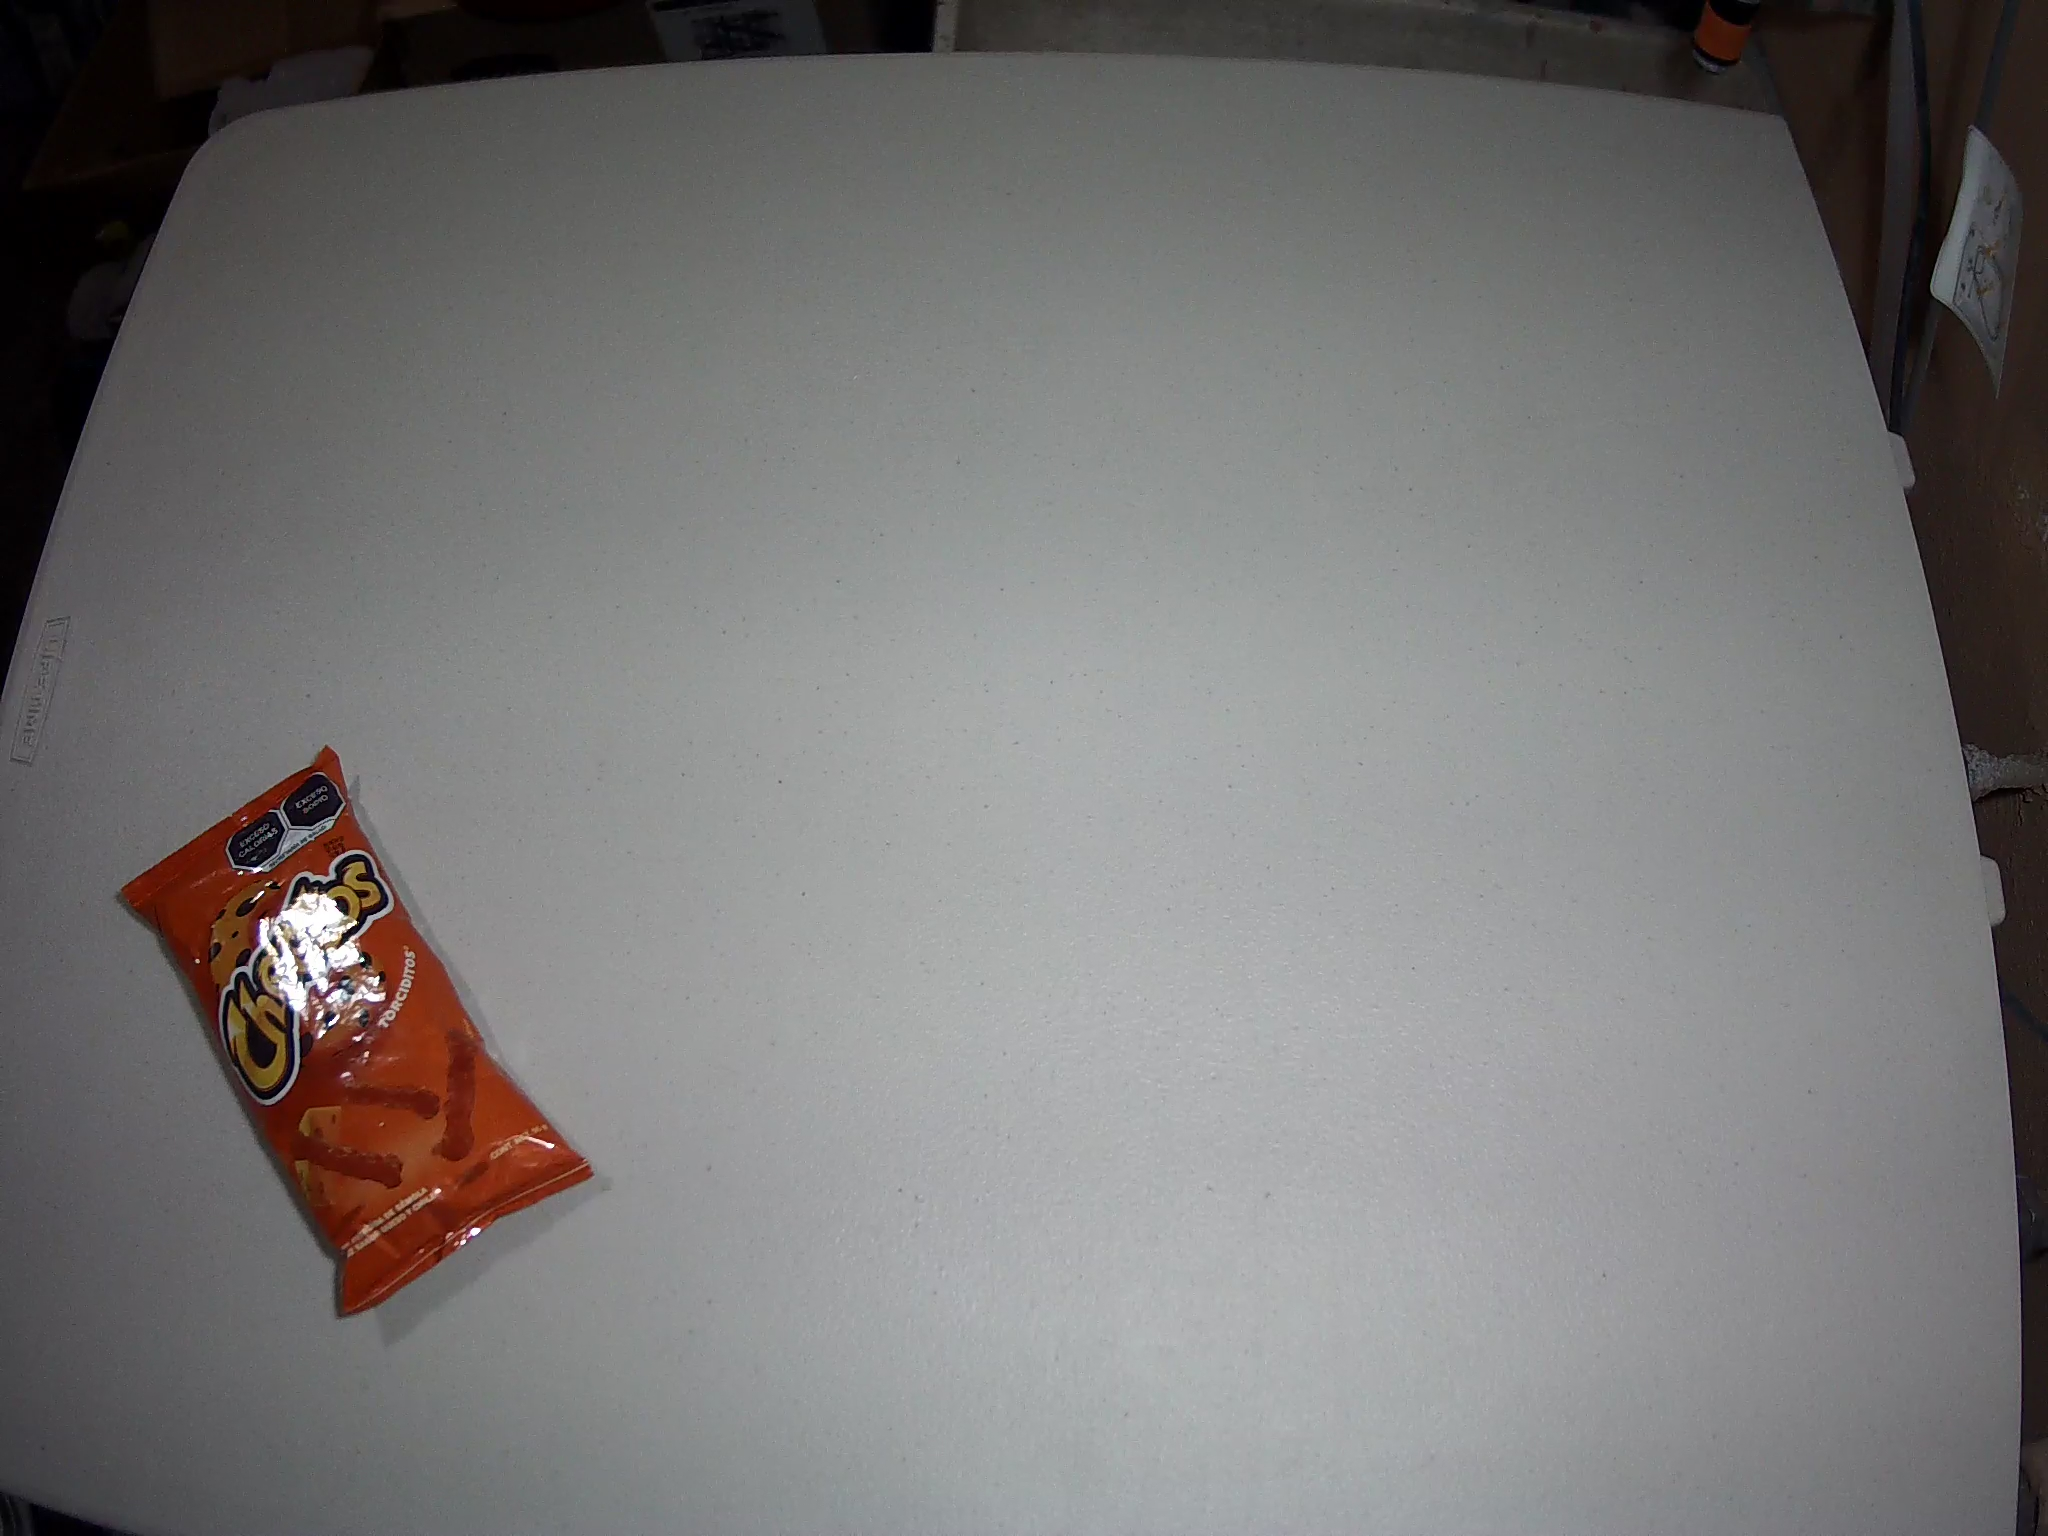CheetosTorciditos_55_F: (116, 747, 597, 1320)
